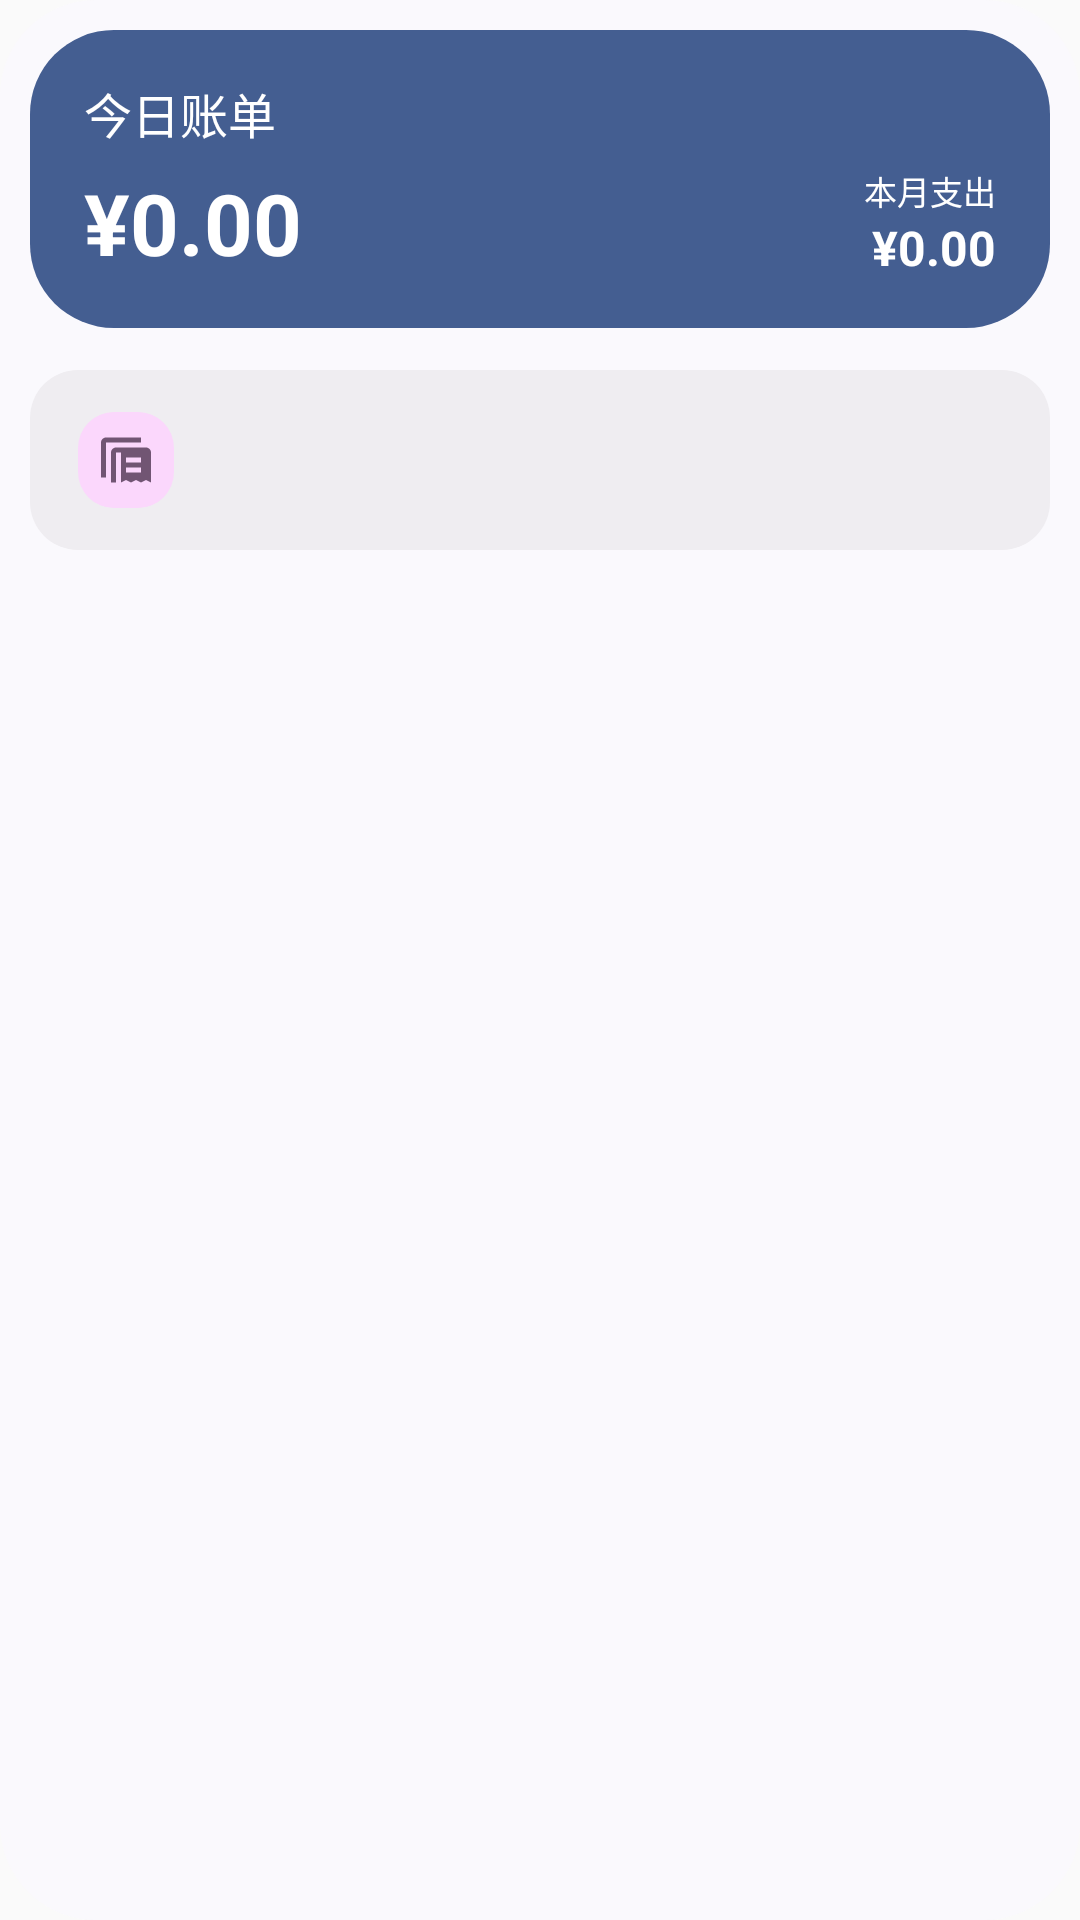

Icon click points for this 1080 x 1920 phone screenshot, format (x=x, y=y):
receipt stack: (x=126, y=460)
